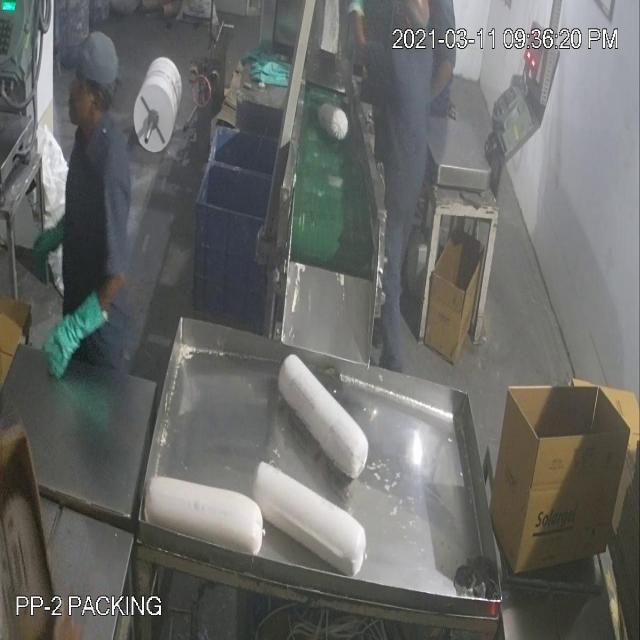Gloves: (38, 270, 117, 390)
